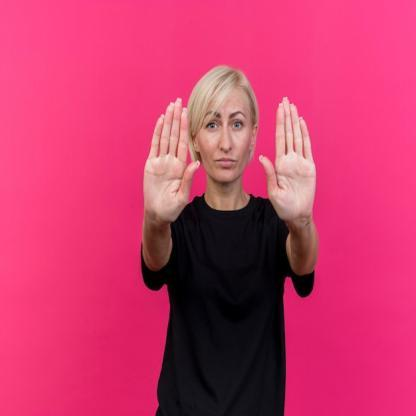stop: (257, 92, 326, 230), (141, 93, 202, 237)
